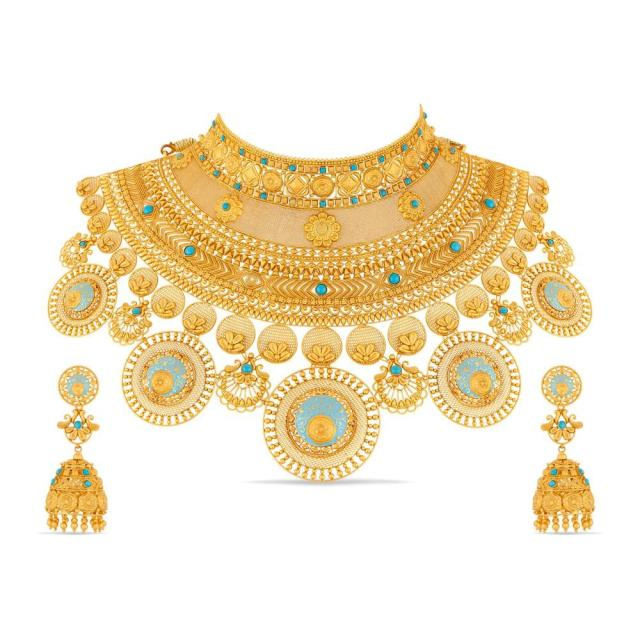missing gem: (245, 274, 258, 285), (316, 223, 327, 234), (290, 199, 296, 206)
